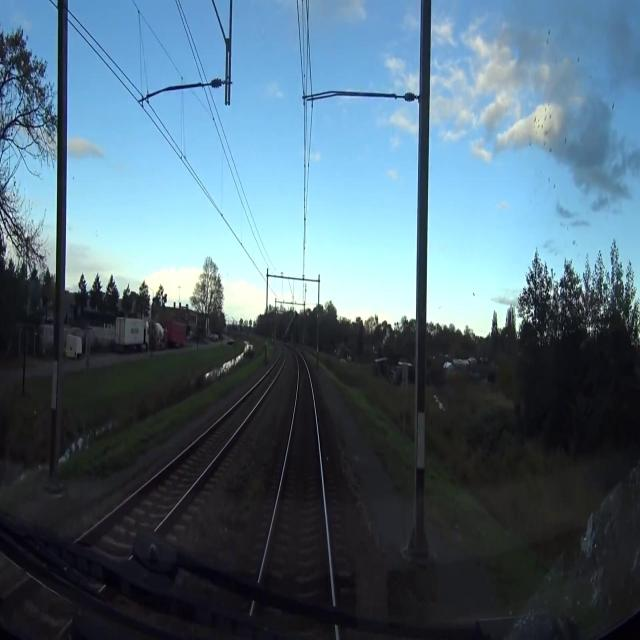rail-track: (99, 348, 284, 535), (266, 355, 329, 582)
